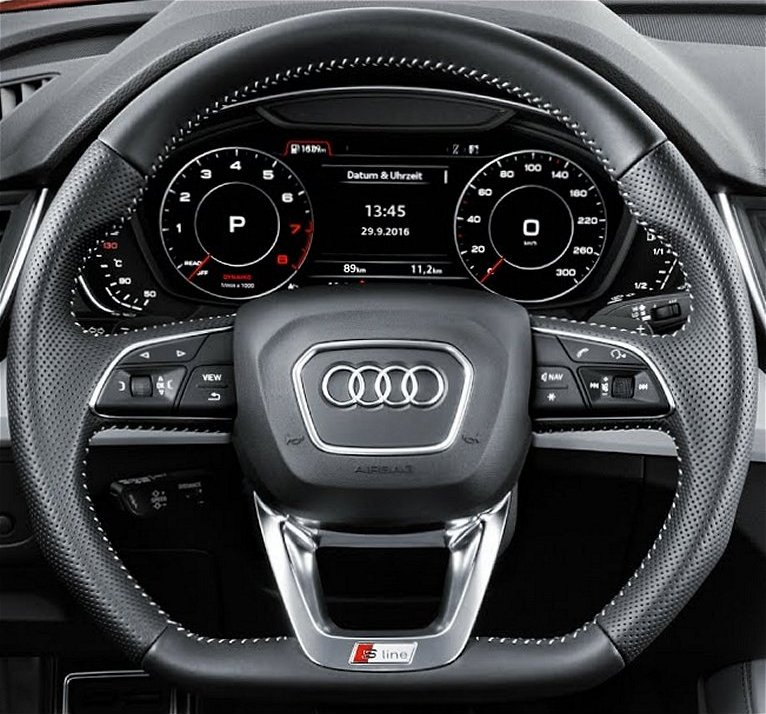audi: (317, 361, 453, 413)
